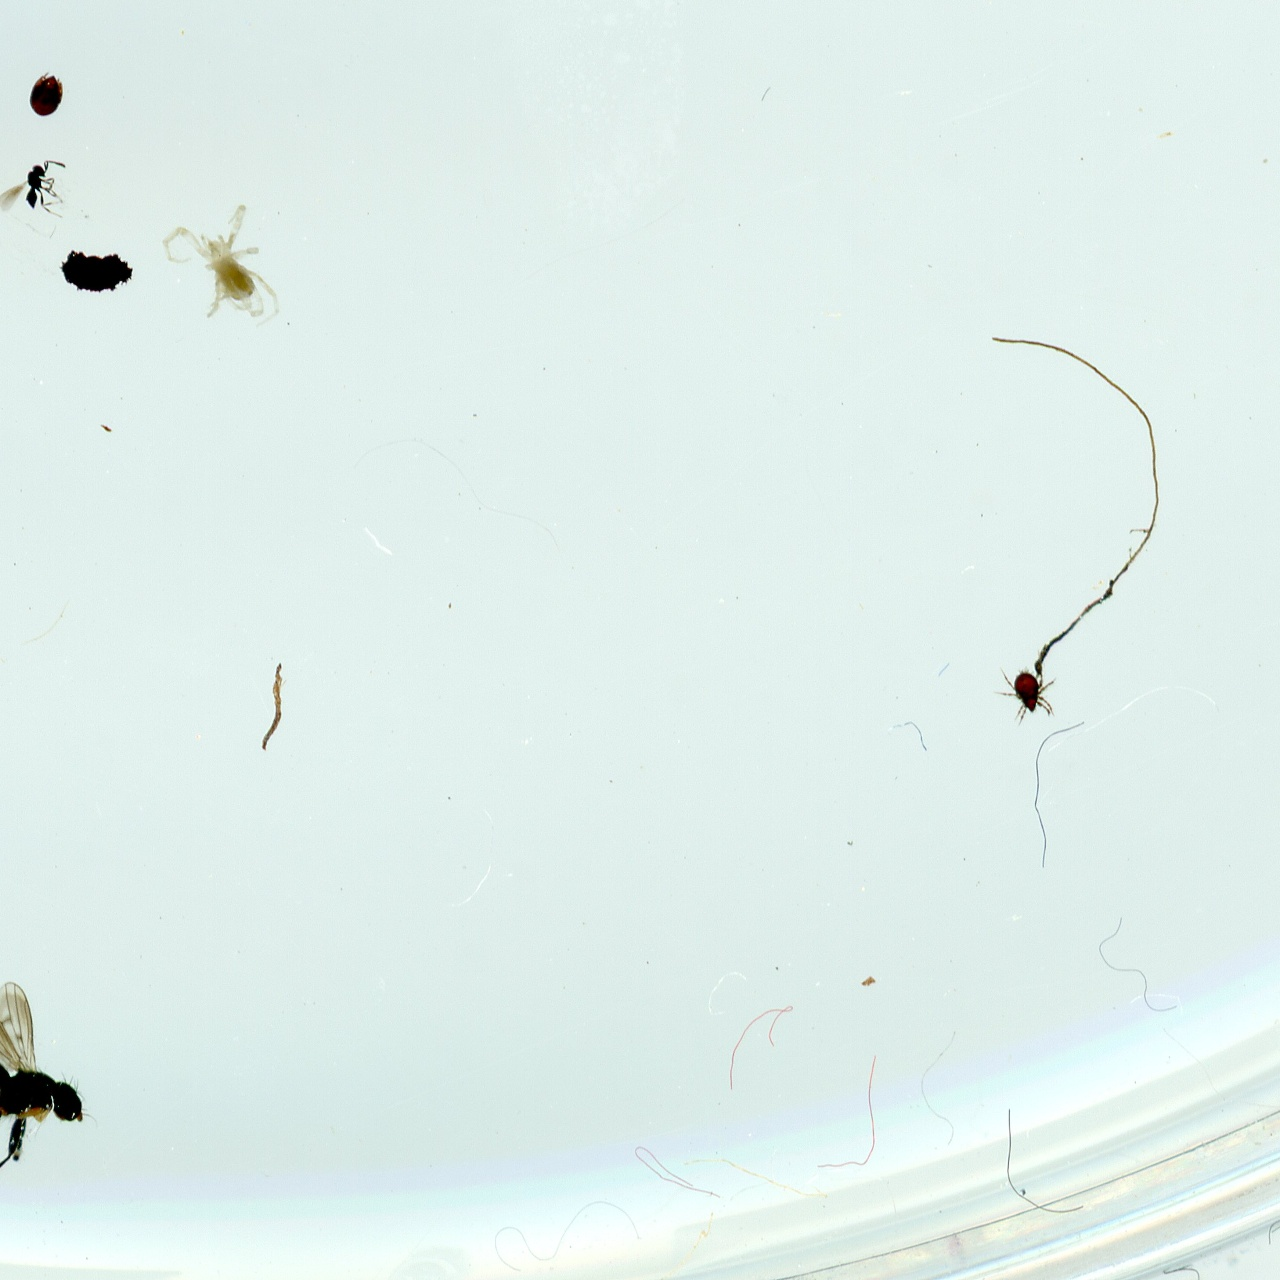arthropod: (0, 974, 94, 1205), (154, 191, 291, 333), (0, 151, 83, 224), (996, 656, 1060, 727), (26, 68, 70, 118)
